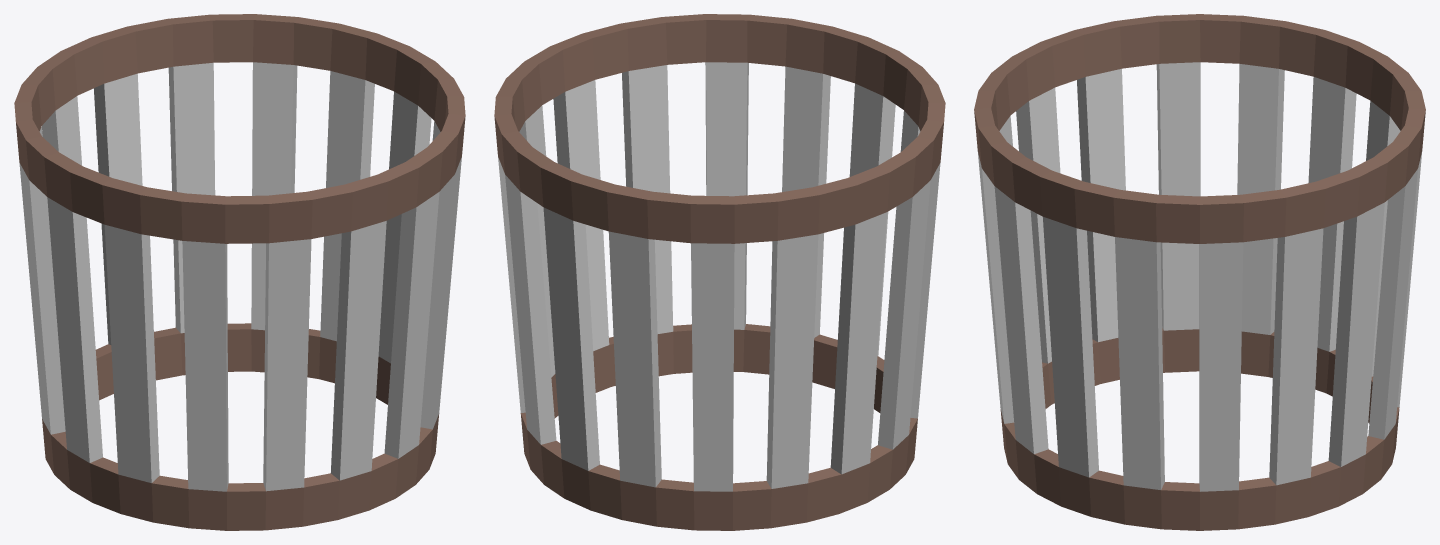
The model's file is basket.fbx.
The picture shows the model from 3 angles, left to right: view 1: azimuth 30°, elevation 25°; view 2: azimuth 150°, elevation 25°; view 3: azimuth 270°, elevation 25°; orthographic projection.
Visible parts, largest first — view 1: Circle; view 2: Circle; view 3: Circle.
Part boxes in pixels (bbox=[...]): Circle: bbox=[14, 14, 465, 530]; Circle: bbox=[494, 14, 945, 530]; Circle: bbox=[974, 14, 1425, 530].
Bounding box in the file's own units: 284 × 236 × 284.
